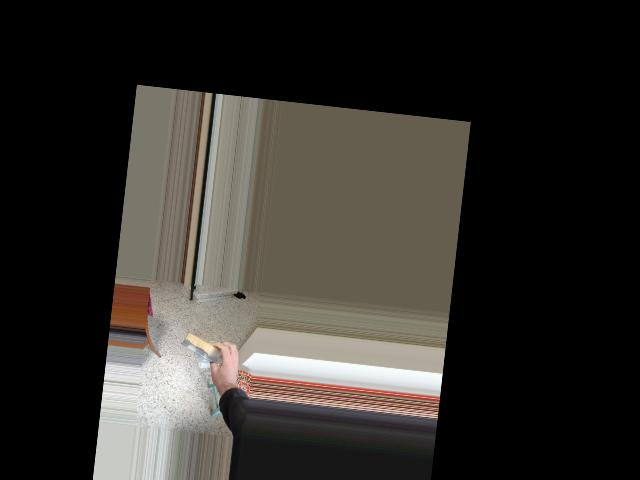cheese: (175, 317, 247, 377)
